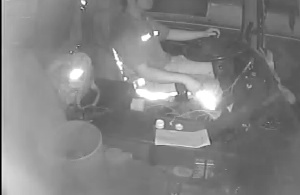paper: (153, 126, 213, 151)
